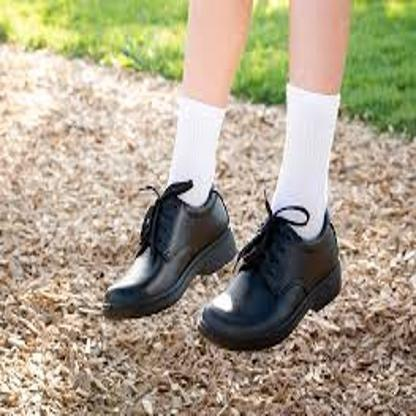not trash: (200, 213, 348, 348), (100, 178, 231, 324)
